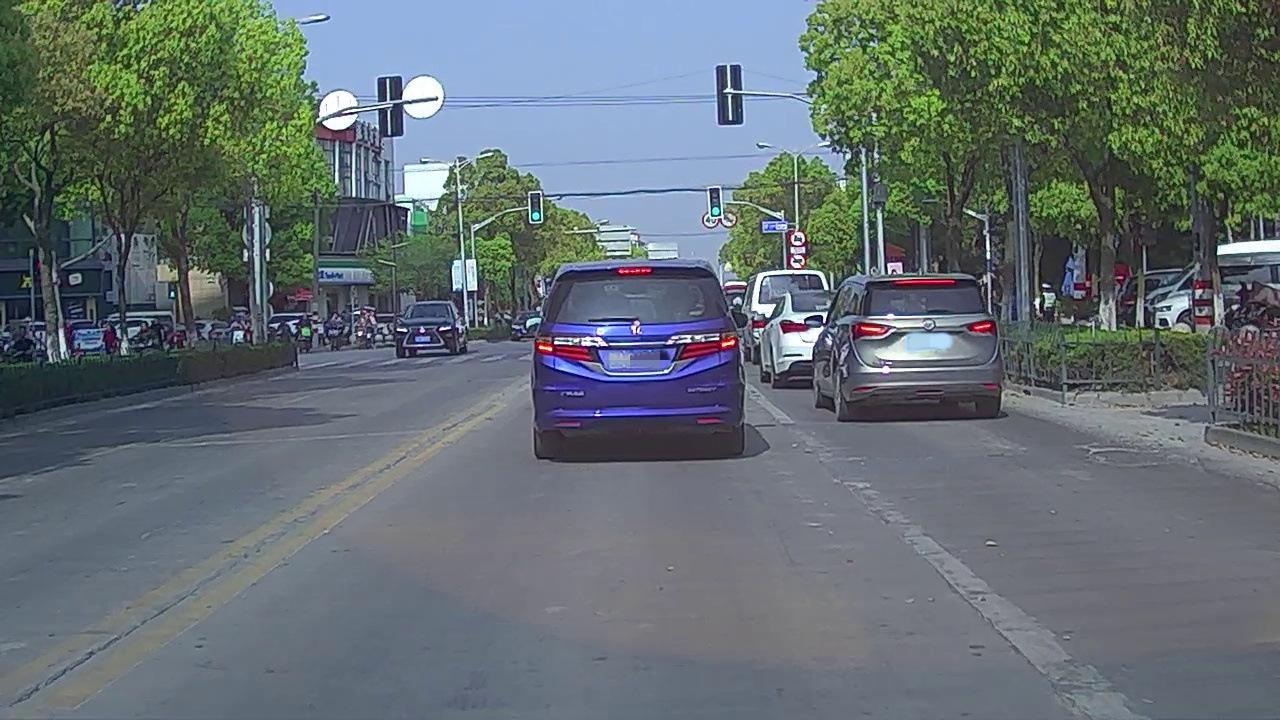traffic_light: (708, 187, 722, 217), (529, 191, 541, 221)
